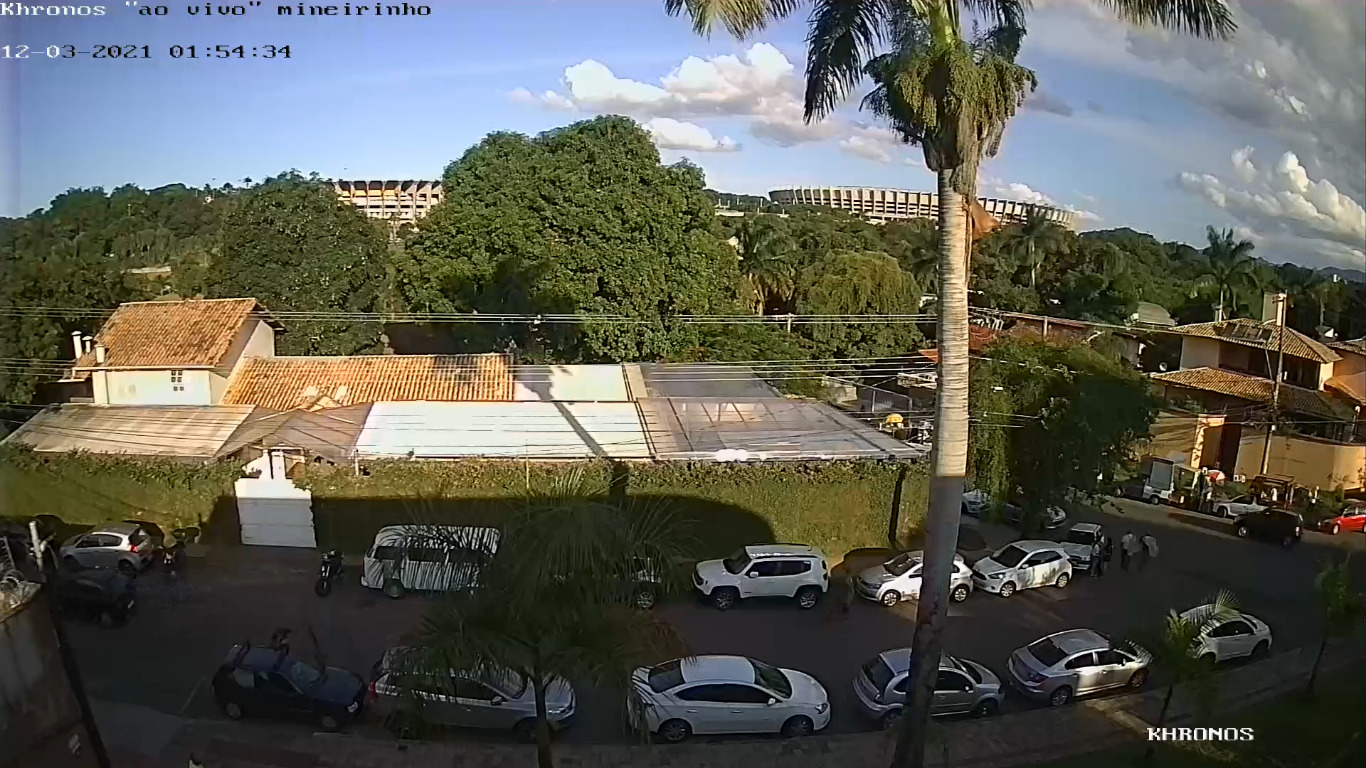car: (627, 653, 831, 742), (853, 646, 1005, 729), (1006, 629, 1154, 707), (690, 542, 829, 610), (1165, 602, 1272, 671), (854, 549, 974, 607), (973, 539, 1073, 597)
